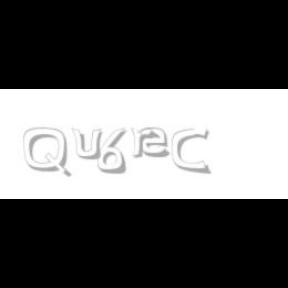6: (98, 128, 126, 176)
C: (172, 128, 210, 174)
Q: (24, 128, 70, 178)
e: (140, 128, 173, 158)
r: (130, 128, 158, 158)
u: (72, 128, 106, 160)
